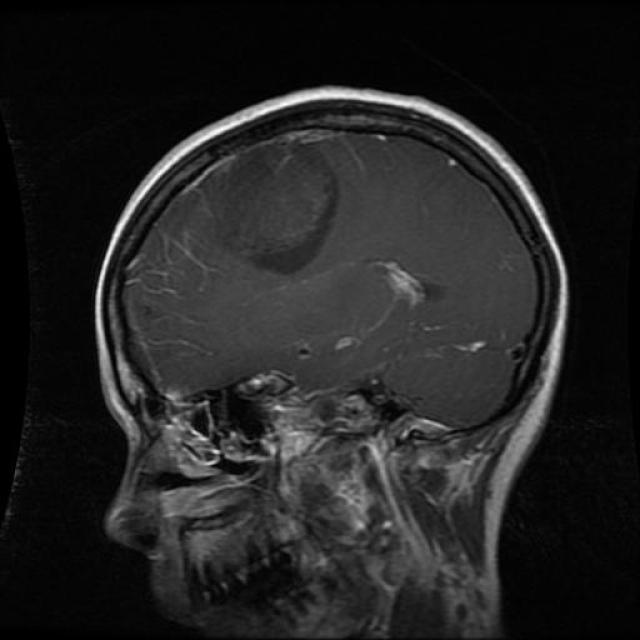brain_tumor: (221, 144, 338, 273)
